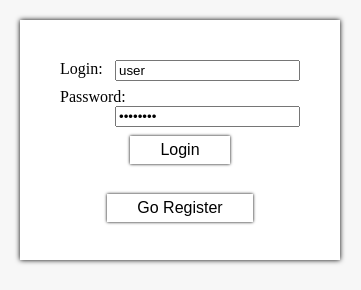
Test: loginAccount on other than 200 status
What coordinates should you click on to do the following:
click the button "Login"
I would click on:
 (180, 150)
Its box is [130,136,230,164].
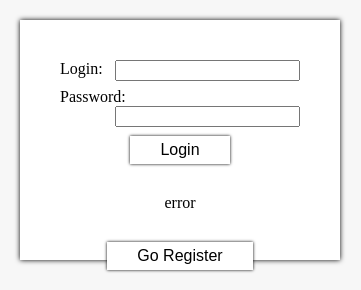
Expected: the text "error" is shown, [164,194,196,211]
